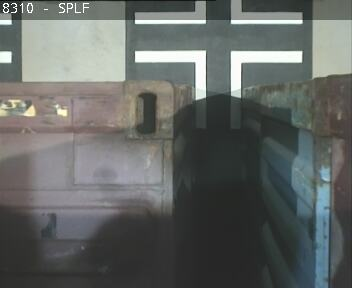groundmarker_1: (135, 49, 302, 129), (135, 1, 302, 24)
